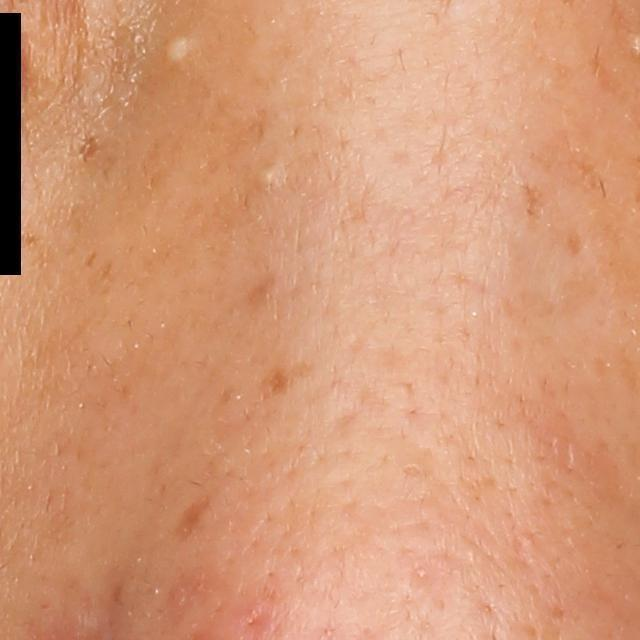comedo: (251, 163, 284, 196)
melasma: (532, 130, 625, 209), (166, 488, 220, 553), (237, 271, 295, 319), (259, 363, 312, 402), (516, 180, 552, 233), (74, 134, 106, 168), (80, 249, 100, 270)
other: (160, 29, 197, 77)
